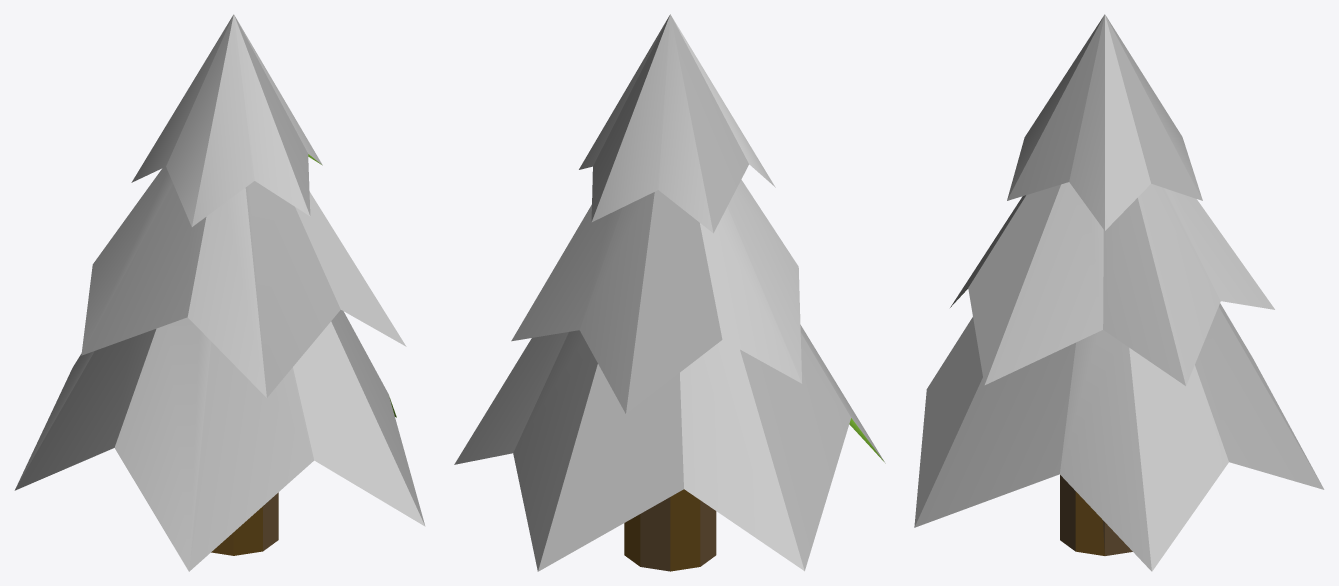
File: tree4.fbx
3 views of the same model, side by side, from view 1: azimuth 30°, elevation 25°; view 2: azimuth 150°, elevation 25°; view 3: azimuth 270°, elevation 25° (orthographic). The views are drawn at different scales.
Visible parts, largest first — view 1: pPyramid4; view 2: pPyramid4; view 3: pPyramid4.
Boxes of the visible parts, x1,y1,x2,y2 form: pPyramid4: (14, 14, 425, 571); pPyramid4: (454, 14, 885, 571); pPyramid4: (914, 14, 1324, 571).
Size of the model in its own units: 15.86 by 21.9 by 15.57.
